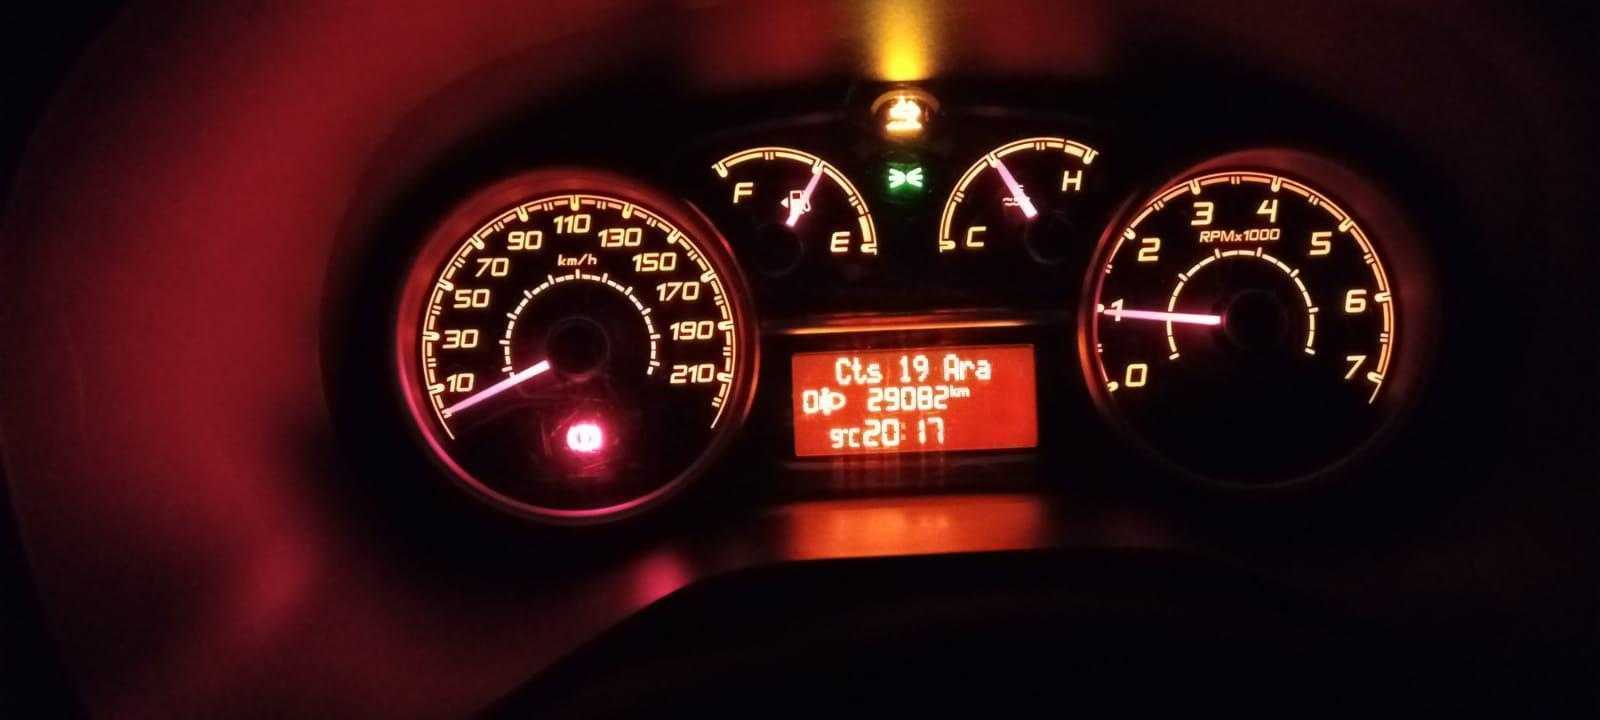0: (881, 416, 900, 447), (801, 387, 818, 414), (900, 384, 916, 410)
1: (899, 354, 911, 383), (916, 418, 927, 447)
2: (864, 417, 880, 448), (934, 384, 948, 410), (867, 387, 882, 412)
7: (927, 416, 945, 442)
8: (917, 385, 933, 409)
9: (912, 353, 930, 381), (884, 385, 900, 411), (830, 427, 843, 448)
X: (834, 355, 851, 387), (943, 351, 959, 381), (851, 354, 866, 385), (866, 360, 883, 384), (976, 358, 991, 380), (959, 358, 974, 380), (848, 425, 861, 447), (958, 385, 971, 398), (900, 420, 908, 440), (950, 383, 958, 398)
odometer: (788, 342, 1042, 455)
